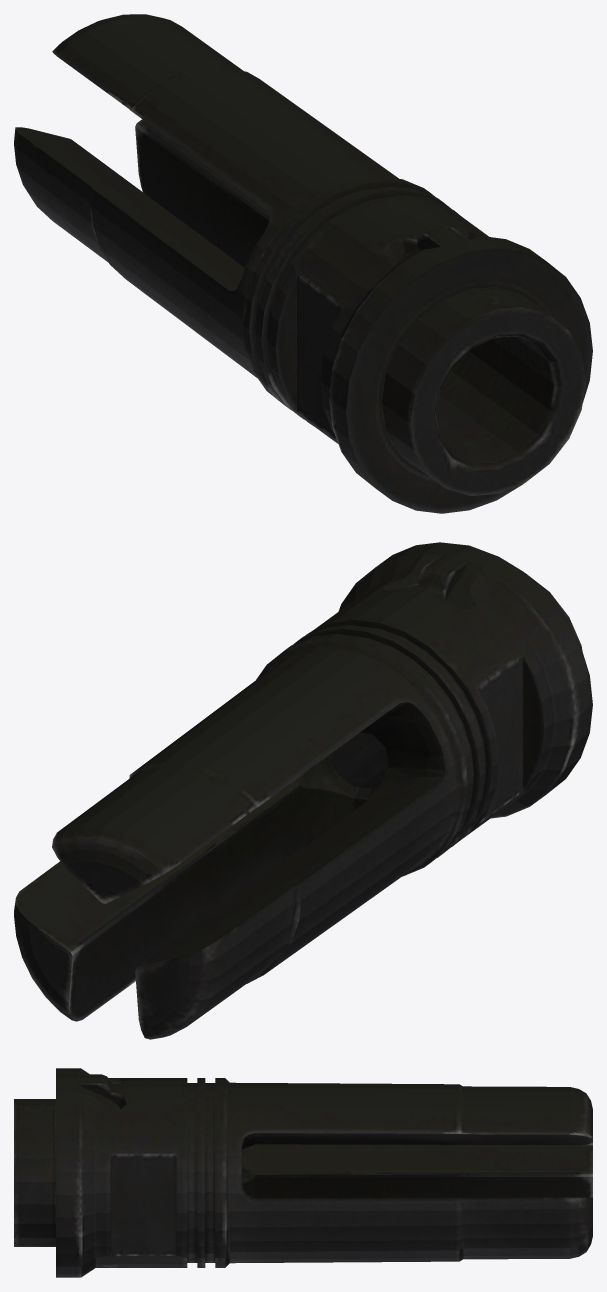
The picture shows the model from 3 angles, top to bottom: view 1: azimuth 30°, elevation 25°; view 2: azimuth 150°, elevation 25°; view 3: azimuth 270°, elevation 25°; orthographic projection. The views are drawn at different scales.
Parts seen in each view (by area): view 1: TW_5c7fb51d2e2216001219ce11_PZ_Import; view 2: TW_5c7fb51d2e2216001219ce11_PZ_Import; view 3: TW_5c7fb51d2e2216001219ce11_PZ_Import.
Boxes of the visible parts, x1,y1,x2,y2 form: TW_5c7fb51d2e2216001219ce11_PZ_Import: (14,14,592,513); TW_5c7fb51d2e2216001219ce11_PZ_Import: (14,542,592,1039); TW_5c7fb51d2e2216001219ce11_PZ_Import: (14,1068,592,1277).
Size of the model in its own units: 0.0142 by 0.0393 by 0.0142.
Materials: 1 (1 with a texture image).
